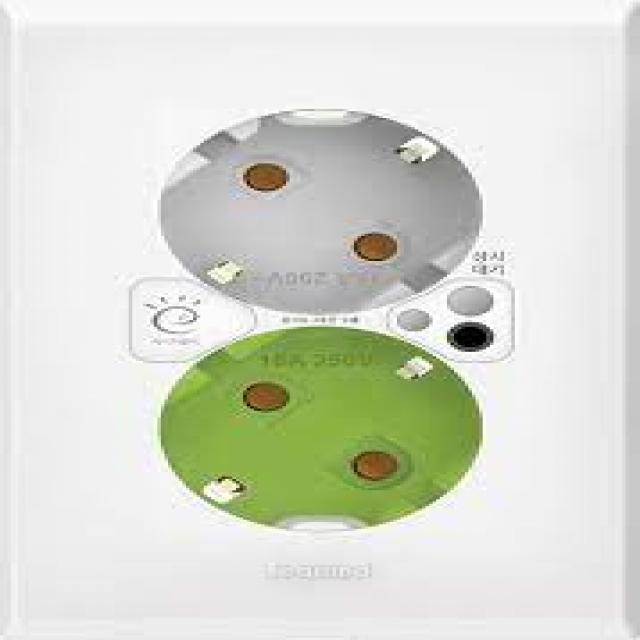typeb: (3, 4, 639, 640)
